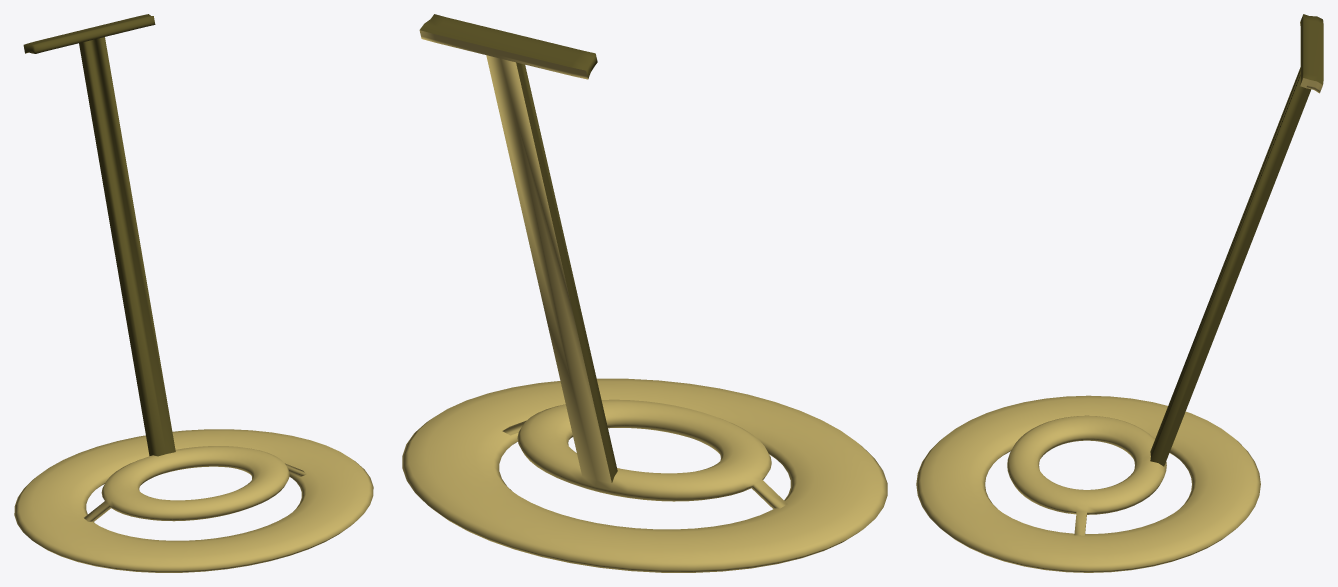
File: metal detector.fbx
3 renders of one model, left to right at view 1: azimuth 30°, elevation 25°; view 2: azimuth 150°, elevation 25°; view 3: azimuth 270°, elevation 25°, orthographic. The views are drawn at different scales.
Visible parts, largest first — view 1: base small; view 2: base small; view 3: base small.
Boxes of the visible parts, box(x1,y1,x2,y2) form: base small: box(14, 14, 373, 572); base small: box(402, 14, 887, 572); base small: box(916, 14, 1323, 572).
Size of the model in its own units: 297 by 357 by 296.
